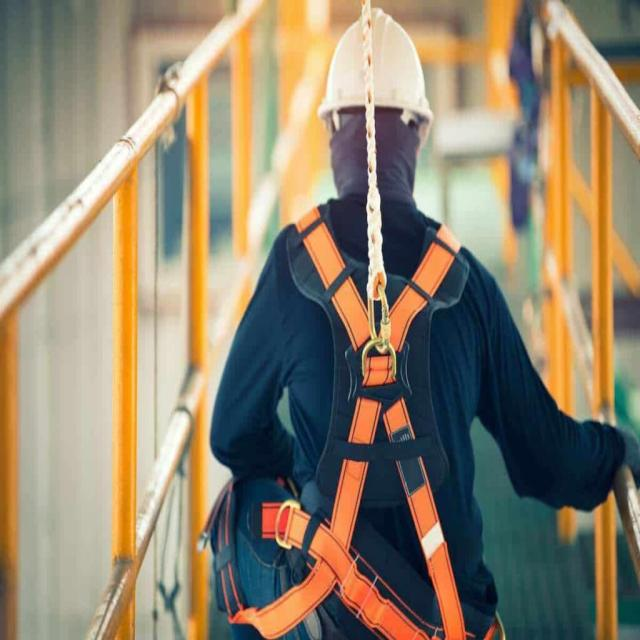helmet: (316, 5, 436, 130)
